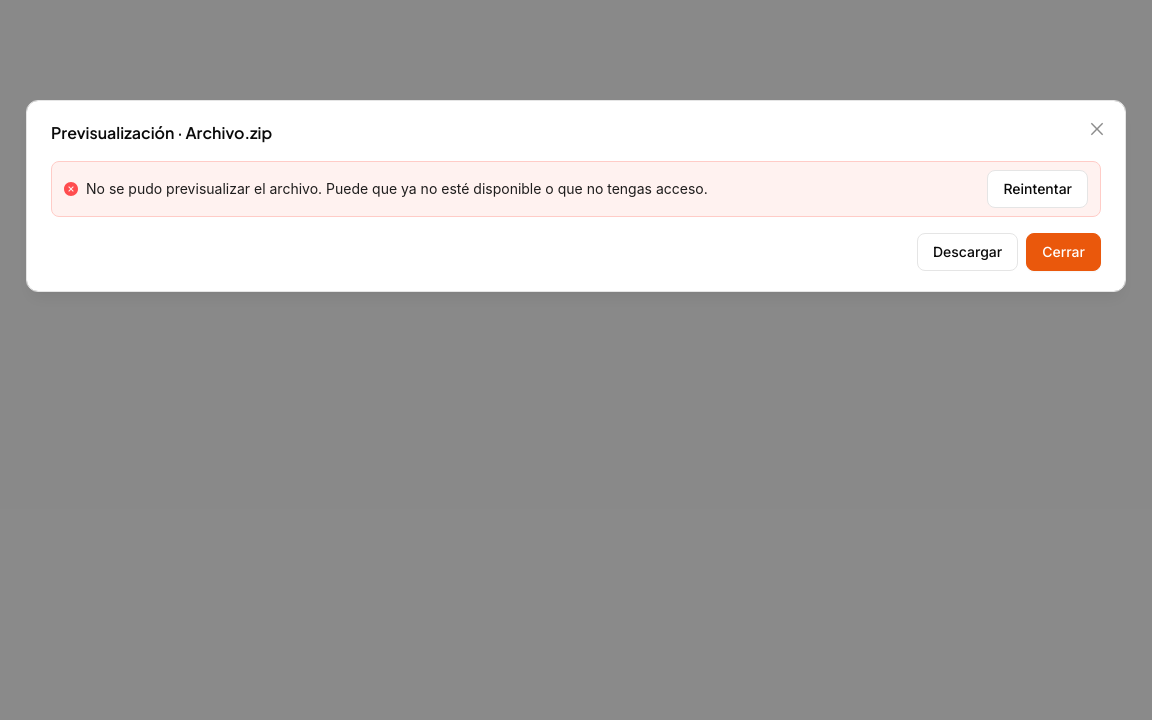
muestra un error recuperable sin descargar automáticamente
Click the button "Reintentar" at (1038, 189), box [988,170,1088,208]
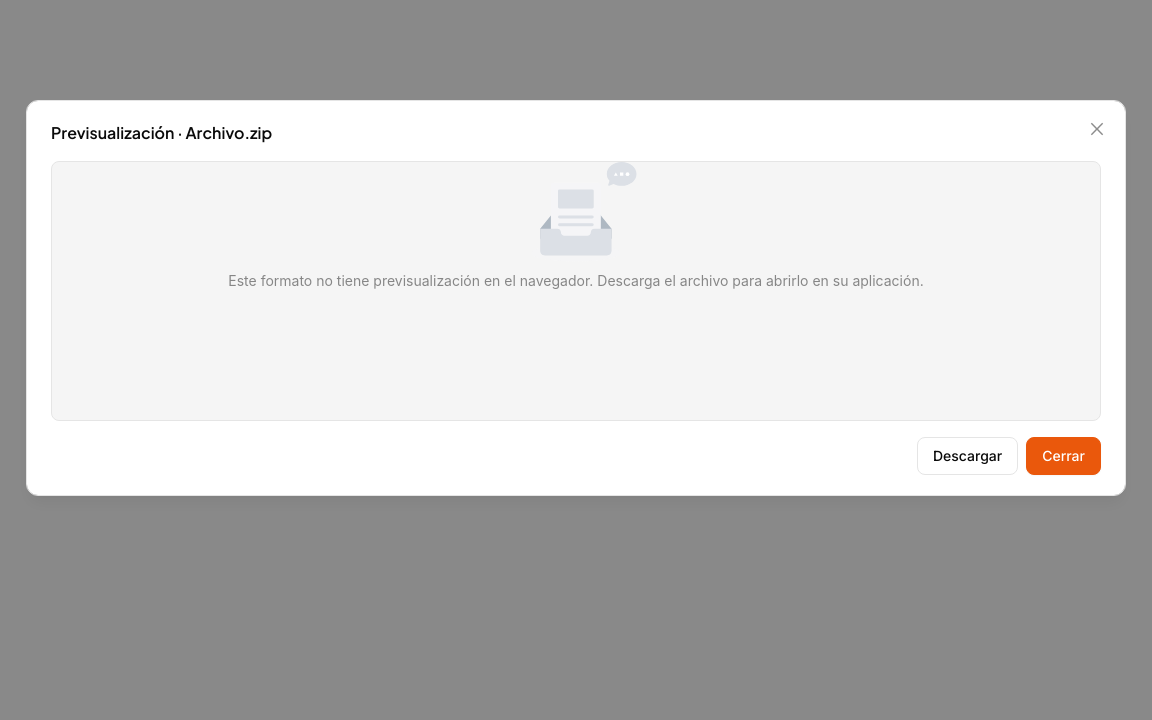
Check: the text "Este formato no tiene previsualización" is shown, box [228,272,924,289]
